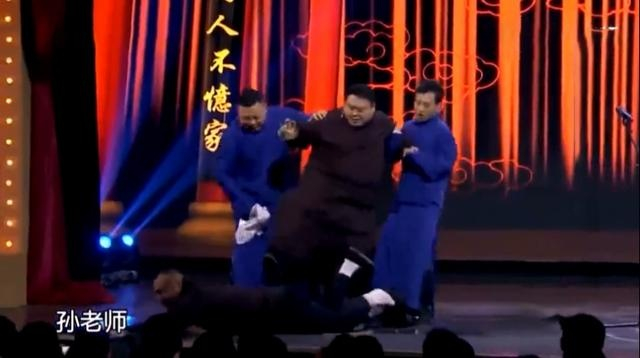falling: (140, 261, 417, 355)
